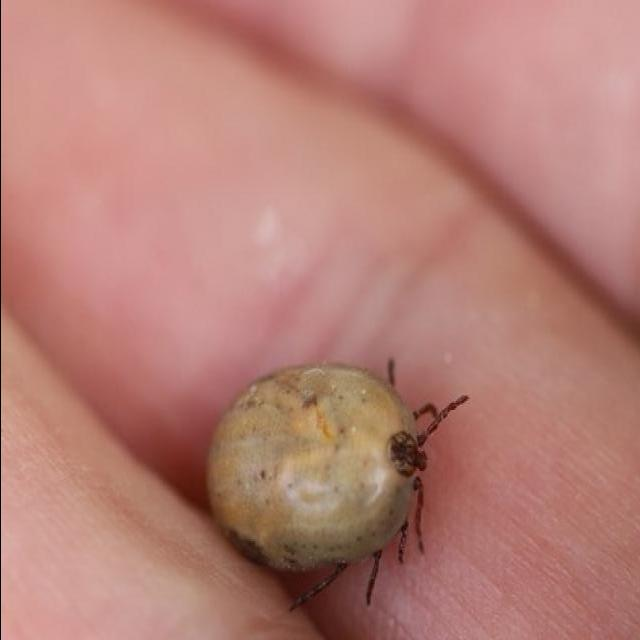Dermacentor Reticulatus-F-Fed: (204, 356, 469, 613)
